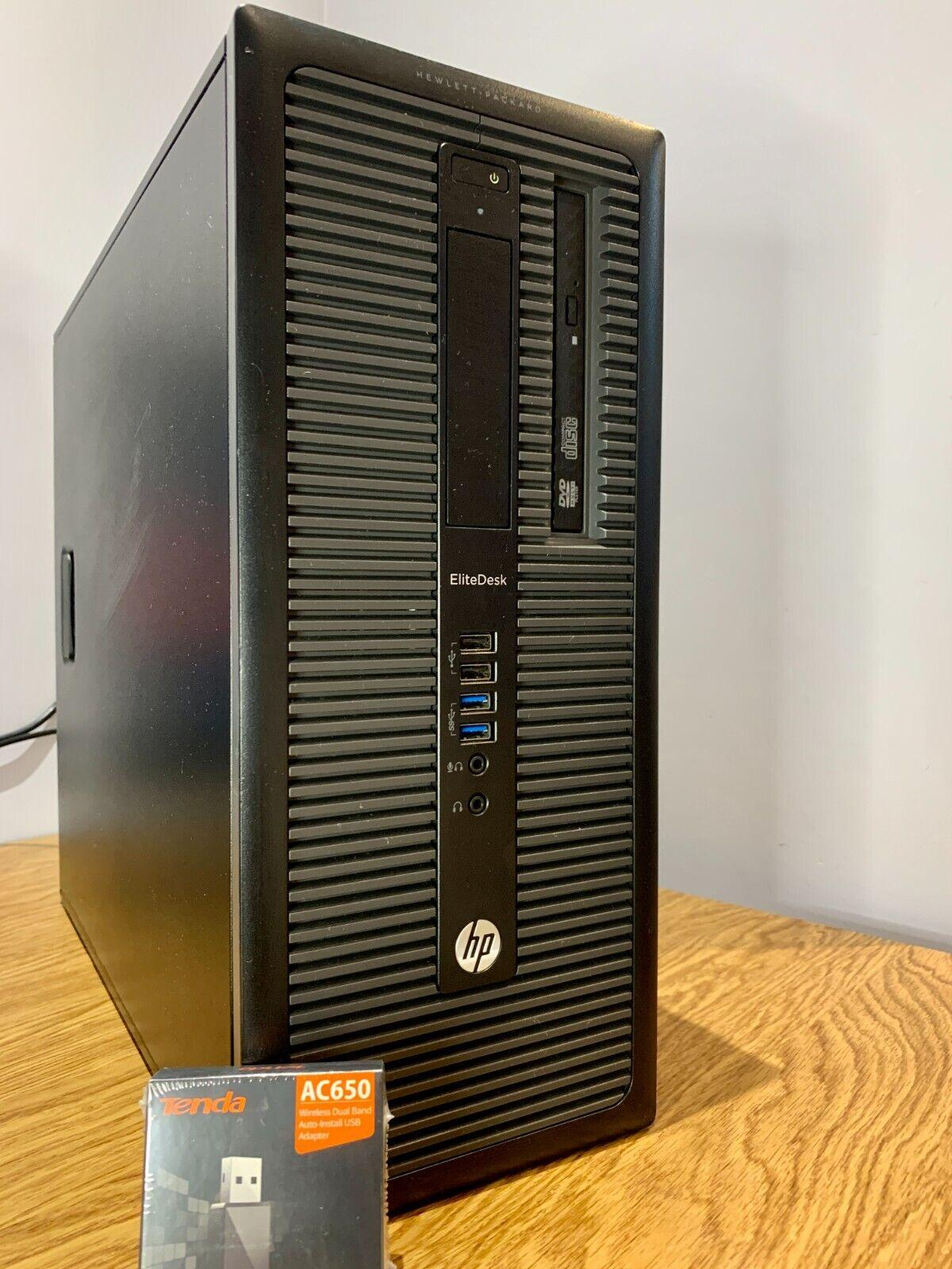DESKTOP PC: (56, 0, 663, 1232)
Monitors: (124, 1054, 396, 1269)
